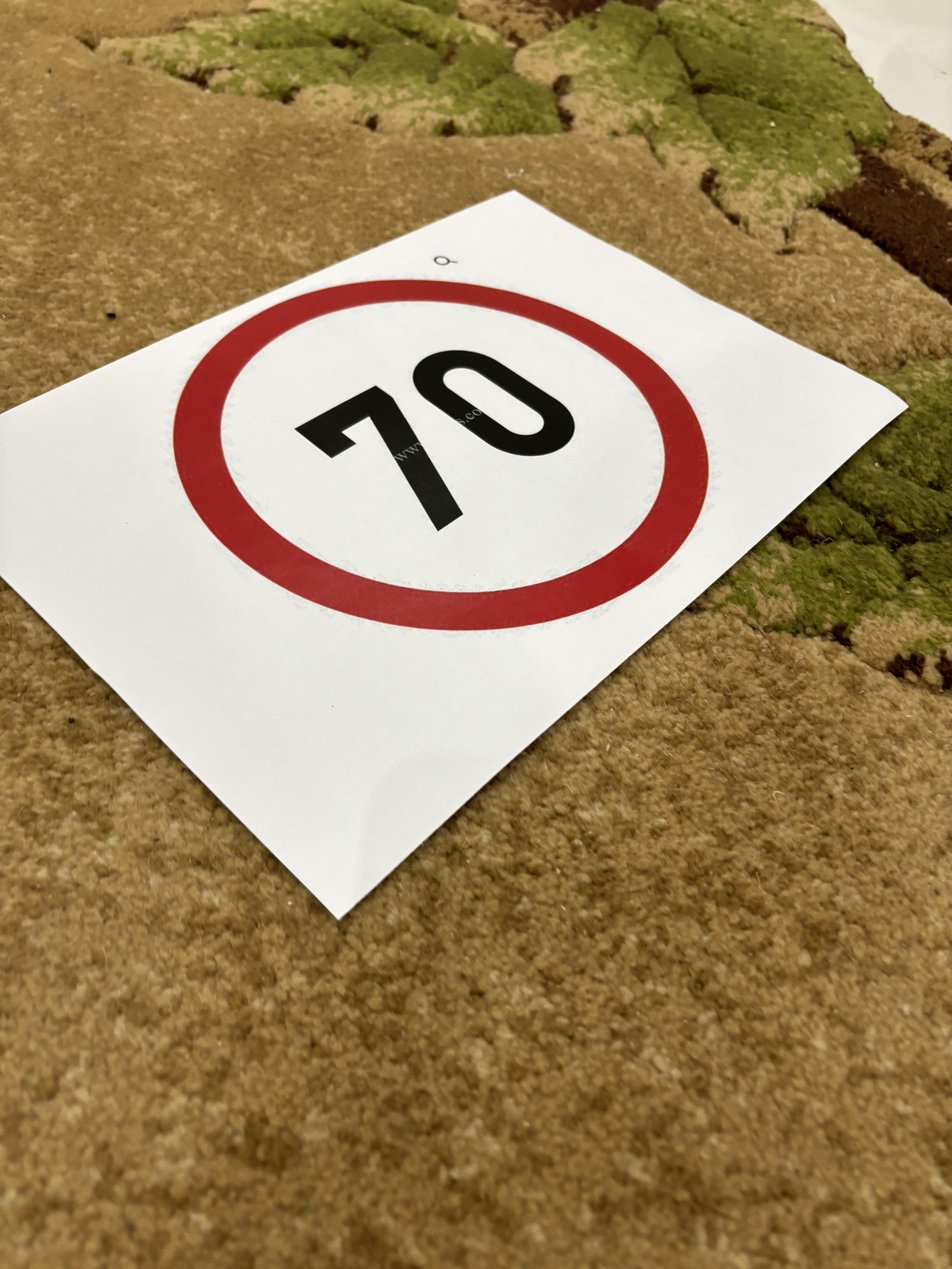70-Speed: (172, 256, 714, 627)
